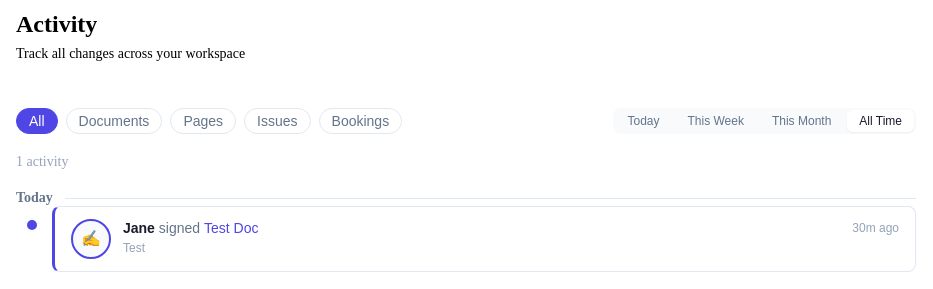
ActivityPage › shows empty state when no activities match filter
The image size is (933, 289).
Click the button "Issues": (277, 121) left=244, top=108, right=311, bottom=134
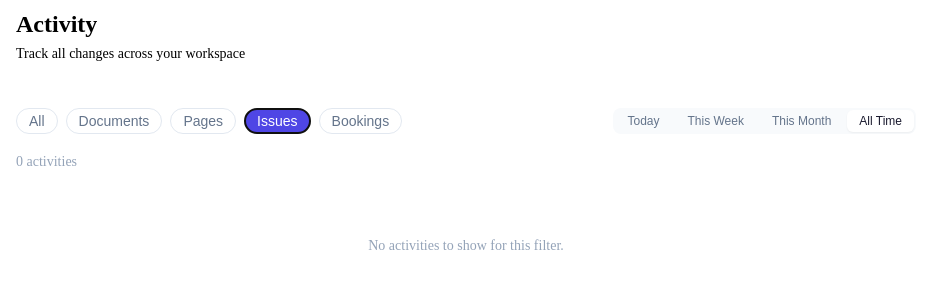
Result: the text "No activities to show for this filter." is shown at left=368, top=238, right=564, bottom=254
